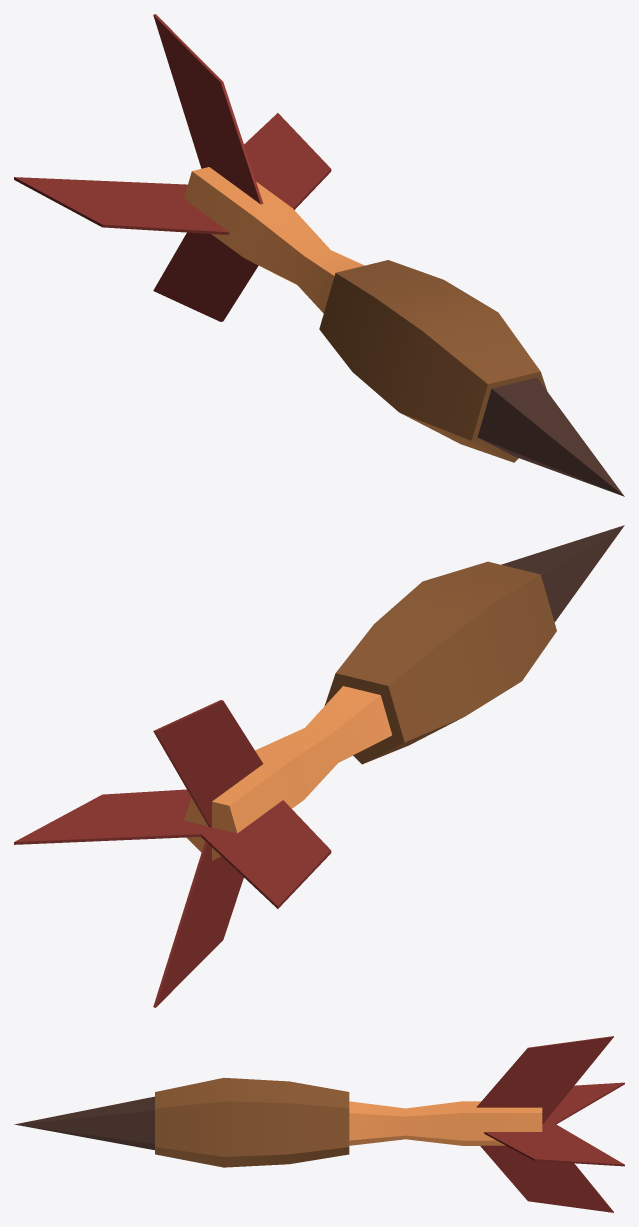
Rendered from Darts 1.fbx.
The picture shows the model from 3 angles, top to bottom: view 1: azimuth 30°, elevation 25°; view 2: azimuth 150°, elevation 25°; view 3: azimuth 270°, elevation 25°; orthographic projection. The views are drawn at different scales.
Parts seen in each view (by area): view 1: Dart; view 2: Dart; view 3: Dart.
Boxes of the visible parts, <box> form: Dart: <box>14,14,624,496</box>; Dart: <box>14,525,624,1007</box>; Dart: <box>14,1036,624,1212</box>.
Bounding box in the file's own units: 8.77 × 8.77 × 27.57.
Materials: 1 (1 with a texture image).
